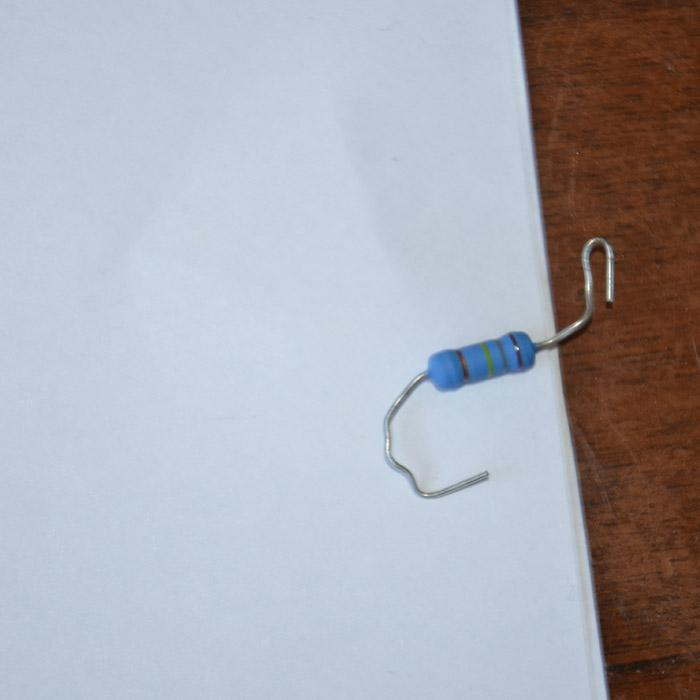resistor: (426, 330, 537, 391)
